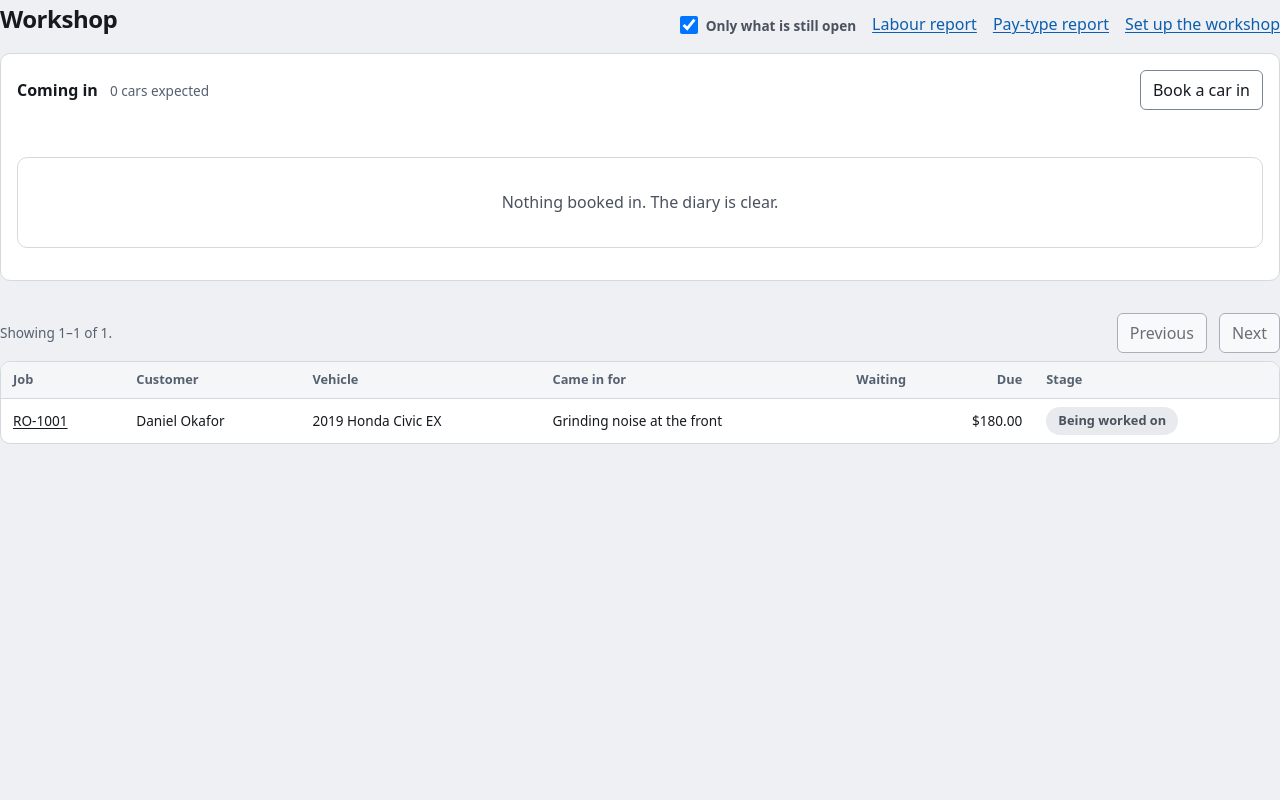
one job › offers nothing on a finished job
The image size is (1280, 800).
Click the button "RO-1001" at coordinates (40, 421), box [13,409,68,433]
(page scrolled)
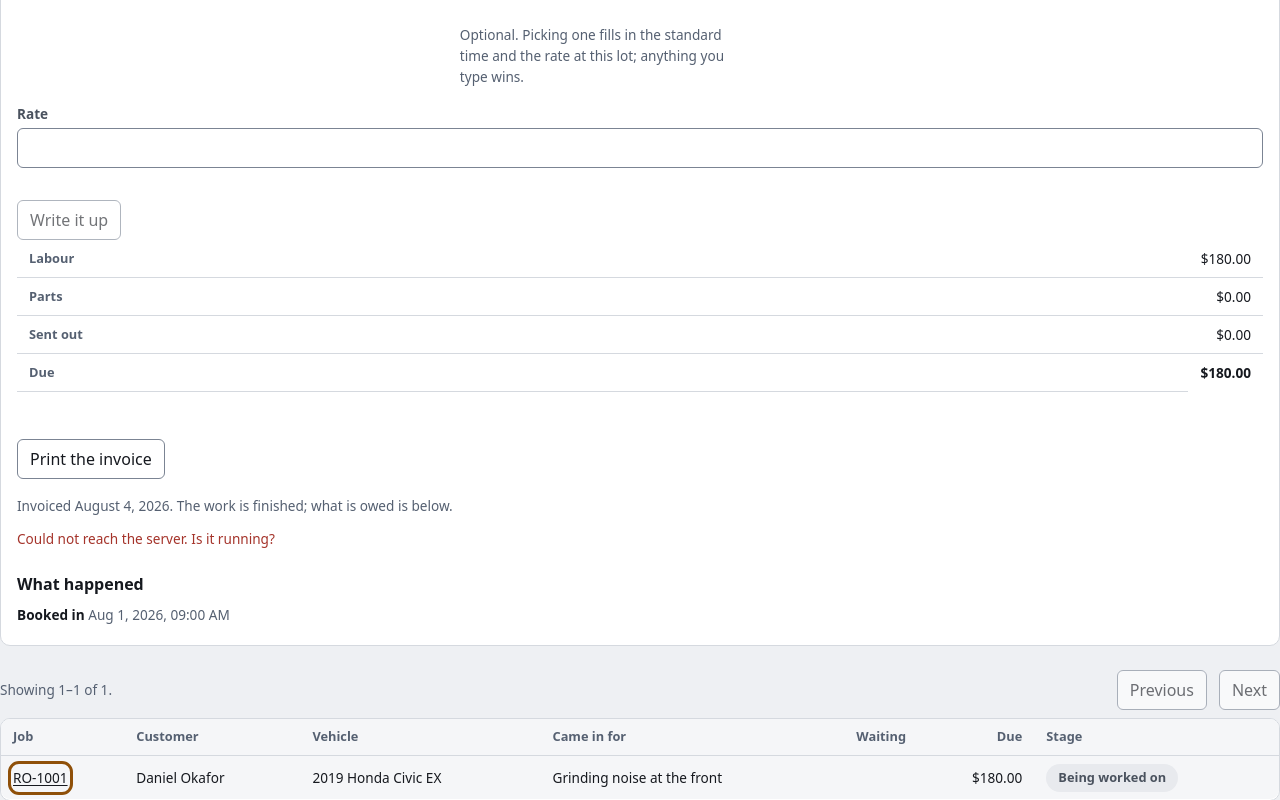
Result: the text "The work is finished" is shown at [17,496,453,515]
